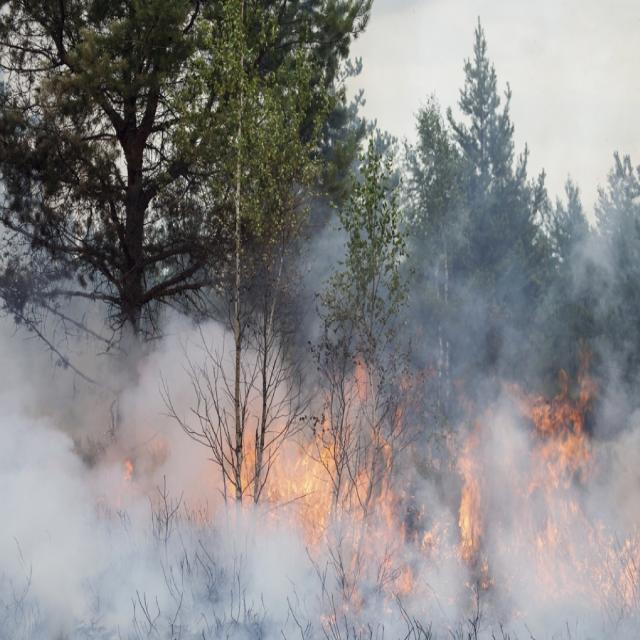Fire: (124, 373, 640, 624)
Smoke: (5, 205, 640, 639)
